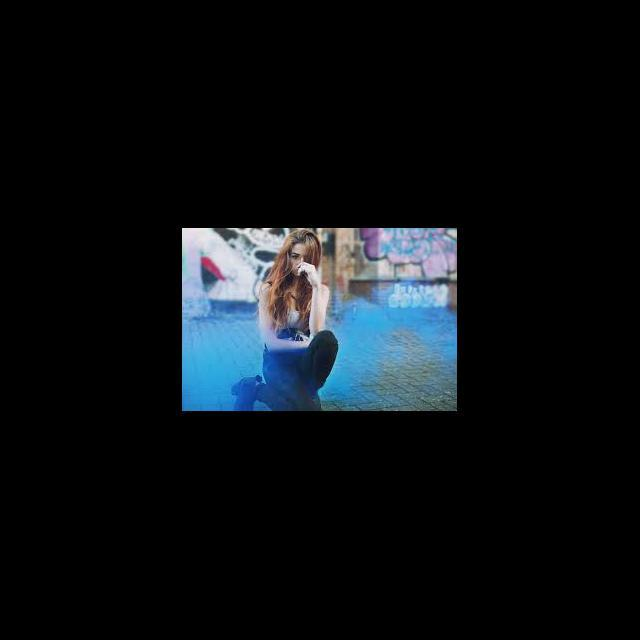Smoke: (342, 294, 381, 403), (184, 326, 228, 408)
